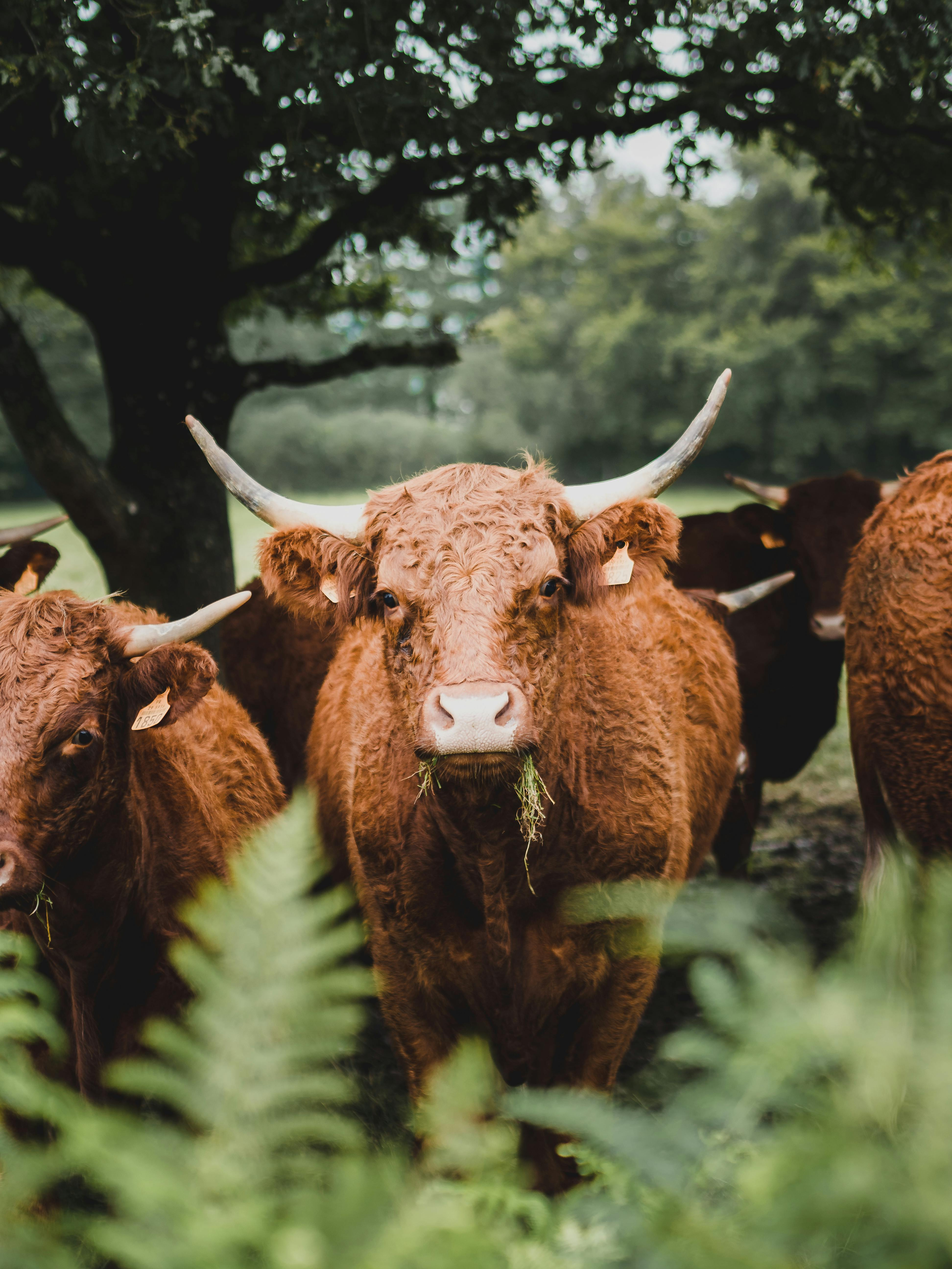bovino: (262, 469, 742, 1133)
